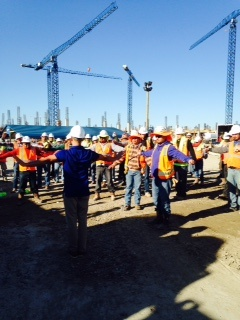white: (69, 125, 85, 146), (153, 125, 167, 143), (229, 124, 240, 140), (98, 130, 108, 142), (138, 127, 148, 139), (175, 128, 184, 139), (22, 135, 30, 147), (14, 133, 22, 144), (47, 132, 54, 141), (40, 132, 47, 141), (91, 135, 98, 144), (55, 138, 62, 145), (84, 134, 90, 142)
